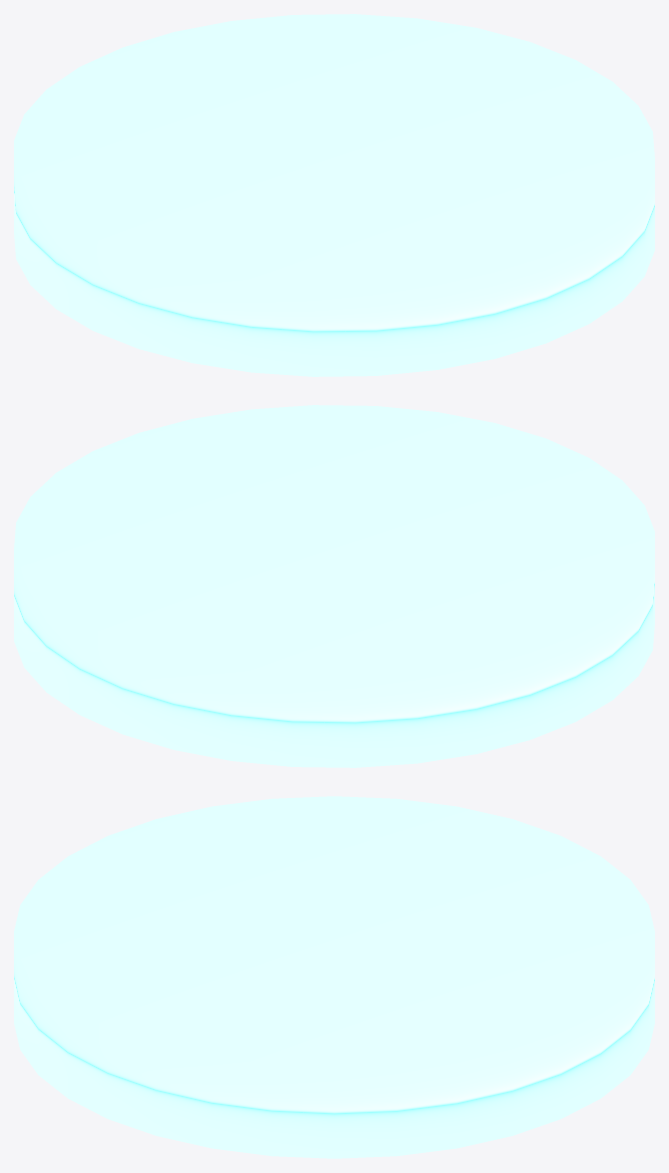
Rendered from SUV_Cupholder_Ring_R.glb.
3 renders of one model, top to bottom at view 1: azimuth 30°, elevation 25°; view 2: azimuth 150°, elevation 25°; view 3: azimuth 270°, elevation 25°, orthographic.
Visible parts, largest first — view 1: SUV_Cupholder_Ring_R; view 2: SUV_Cupholder_Ring_R; view 3: SUV_Cupholder_Ring_R.
Part boxes in pixels (x1,y1,x2,y2): SUV_Cupholder_Ring_R: (14, 14, 654, 376); SUV_Cupholder_Ring_R: (14, 405, 654, 767); SUV_Cupholder_Ring_R: (14, 796, 654, 1158).
Bounding box in the file's own units: 0.076 × 0.012 × 0.076.
